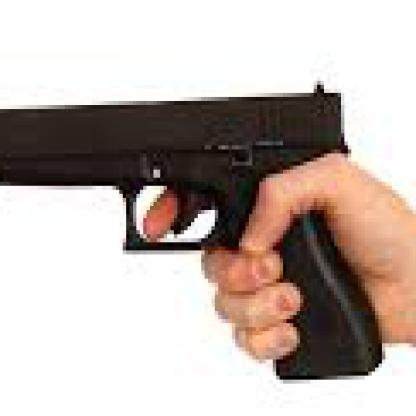gun: (0, 73, 396, 404)
